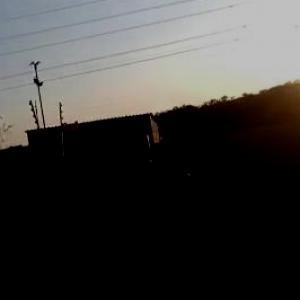follow: (118, 127, 198, 299)
